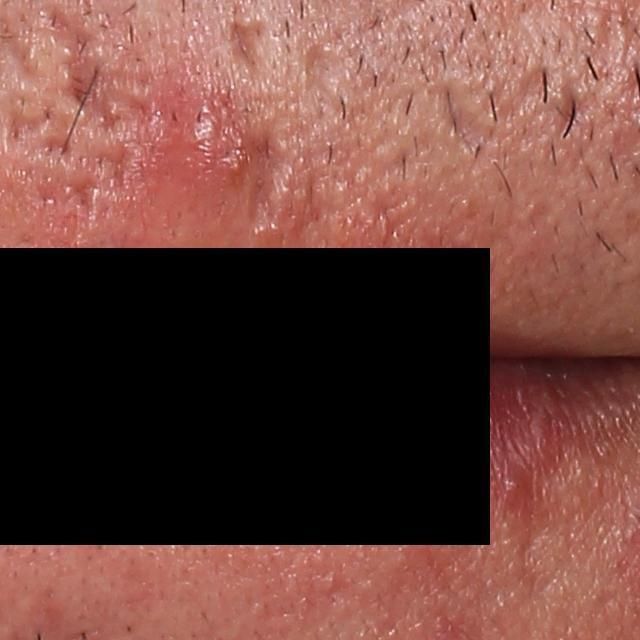atrophic_scar: (436, 80, 513, 158), (236, 127, 282, 237), (79, 66, 149, 138), (2, 93, 61, 157), (556, 76, 601, 145), (508, 65, 556, 122), (36, 175, 98, 219), (225, 19, 263, 78), (300, 35, 335, 81), (41, 137, 72, 157)
papule: (165, 86, 229, 164), (496, 470, 525, 501)
